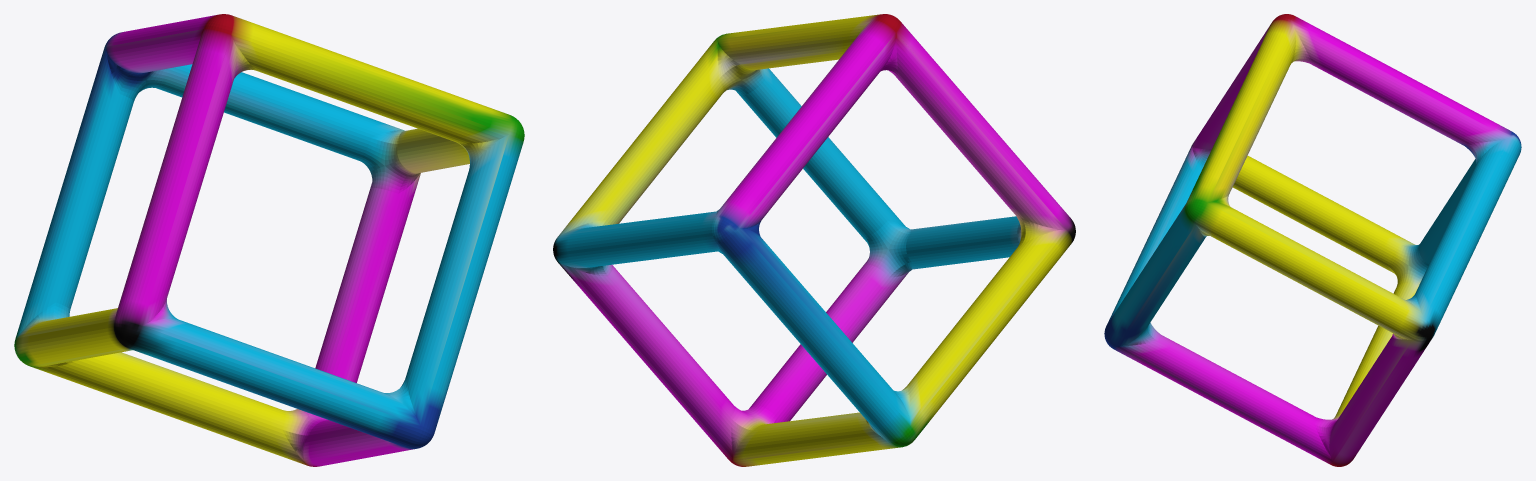
The model's file is multiculture.glb.
The picture shows the model from 3 angles, left to right: view 1: azimuth 30°, elevation 25°; view 2: azimuth 150°, elevation 25°; view 3: azimuth 270°, elevation 25°; orthographic projection. The views are drawn at different scales.
Visible parts, largest first — view 1: Cube; view 2: Cube; view 3: Cube.
Part boxes in pixels (<box>): Cube: <box>14,14,524,466</box>; Cube: <box>553,14,1075,466</box>; Cube: <box>1104,14,1521,466</box>.
Bounding box in the file's own units: 2.88 × 3.15 × 2.96.
